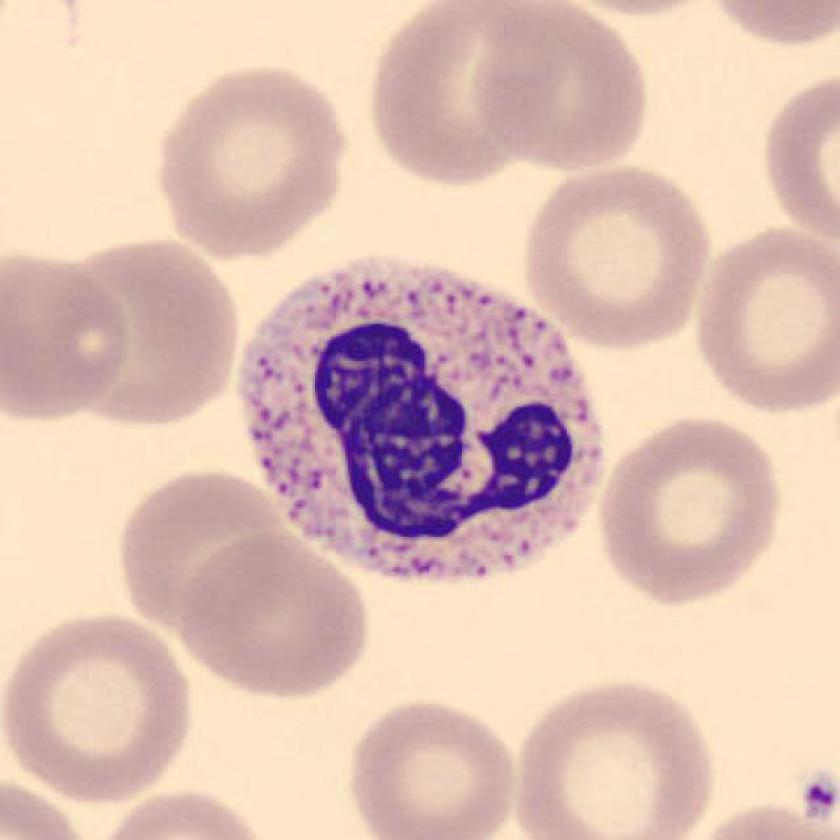neutrophil: (240, 258, 607, 581)
